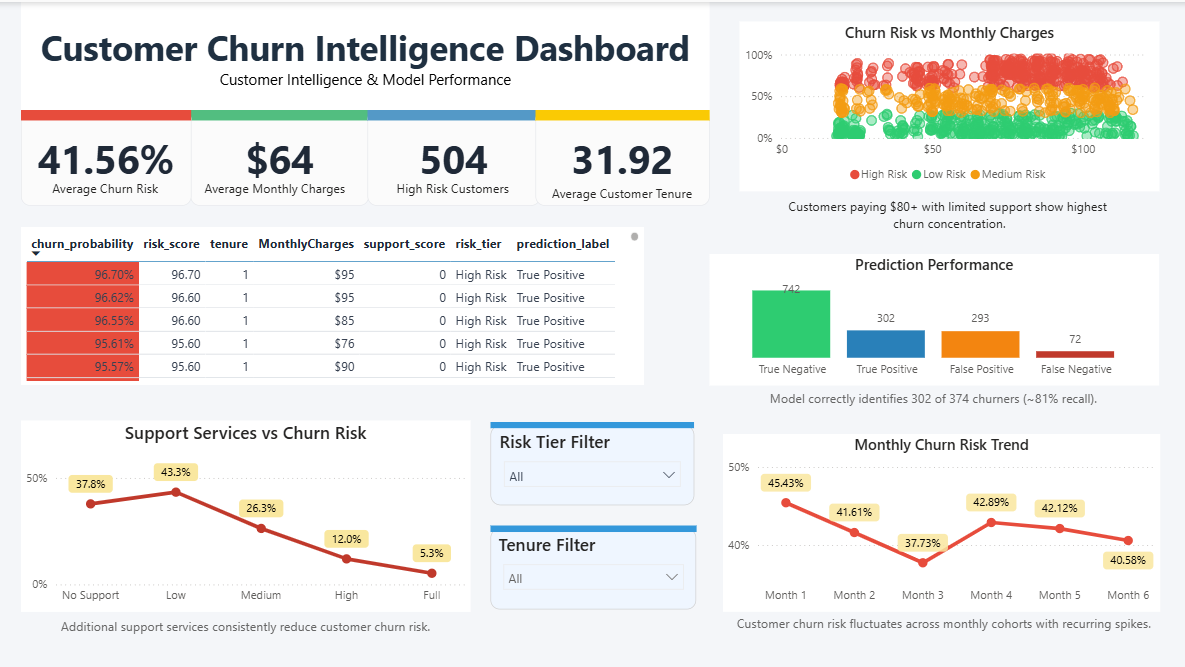

This screenshot's page, from the dashboard's own definition file:
{"tool":"powerbi","page":{"name":"Customer Intelligence","canvas":[1280,720],"ordinal":1},"visuals":[{"type":"card","fields":{"Values":["Avg(predictions_enhanced.churn_probability)"]},"box":[23.3,116.7,183.7,103.3],"z":0,"group":"g4"},{"type":"card","fields":{"Values":["predictions.High Risk Customers"]},"box":[396.8,116.7,186.7,103.3],"z":0,"group":"g5"},{"type":"card","fields":{"Values":["Avg(predictions_enhanced.tenure)"]},"box":[577.3,116.7,188.3,103.3],"z":0,"group":"g6"},{"type":"tableEx","fields":{"Values":["predictions_enhanced.churn_probability","predictions_enhanced.risk_score","predictions_enhanced.tenure","predictions_enhanced.MonthlyCharges","predictions_enhanced.support_score","predictions_enhanced.risk_tier","predictions_enhanced.prediction_label"]},"box":[23.3,243.3,671.7,170],"z":0},{"type":"scatterChart","title":"Churn Risk vs Monthly Charges","fields":{"X":["predictions_enhanced.MonthlyCharges"],"Y":["Avg(predictions_enhanced.churn_probability)"],"Series":["predictions_enhanced.risk_tier"]},"box":[798.3,21.7,453.3,183.3],"z":1000},{"type":"card","fields":{"Values":["Avg(predictions_enhanced.MonthlyCharges)"]},"box":[207,116.7,192.9,103.3],"z":1000,"group":"g1"},{"type":"textbox","box":[44,186.1,139.7,33.9],"z":1000,"group":"g4"},{"type":"textbox","box":[417.8,186.1,142,33.9],"z":1000,"group":"g5"},{"type":"textbox","box":[576.3,190.7,190.3,28.7],"z":1000,"group":"g6"},{"type":"shape","box":[23.3,116.7,183.7,11.3],"z":2000,"group":"g4"},{"type":"shape","box":[396.8,116.7,186.7,11.3],"z":2000,"group":"g5"},{"type":"shape","box":[577.3,116.7,188.3,11.3],"z":2000,"group":"g6"},{"type":"lineChart","title":"Support Services vs Churn Risk","fields":{"Y":["Avg(predictions.churn_probability)"],"Category":["predictions.support_label"]},"box":[23.3,451.7,485,206.7],"z":2000},{"type":"textbox","box":[207,186.1,182.1,33.9],"z":3000,"group":"g1"},{"type":"clusteredColumnChart","title":"Prediction Performance","fields":{"Category":["predictions_enhanced.prediction_label"],"Y":["CountNonNull(predictions_enhanced.prediction_label)"]},"box":[766.7,271.7,485,141.7],"z":3000},{"type":"lineChart","title":"Monthly Churn Risk Trend","fields":{"Category":["predictions_enhanced.month_cohort"],"Y":["Avg(predictions_enhanced.churn_probability)"]},"box":[780,466.7,471.7,191.7],"z":4000},{"type":"textbox","box":[23.3,0,743.3,128.3],"z":5000},{"type":"shape","box":[207,116.7,192.9,11.3],"z":5000,"group":"g1"},{"type":"group","id":"g1","title":"Group 5","box":[23.3,116.7,743.3,103.3],"z":6000},{"type":"group","id":"g2","title":"Group 2","box":[530,453.3,220,90],"z":7000},{"type":"slicer","title":"Risk Tier Filter","fields":{"Values":["predictions_enhanced.risk_tier"]},"box":[530,456.6,220,86.7],"z":7000,"group":"g2"},{"type":"group","id":"g3","title":"Group 4","box":[530,565,223.3,91.7],"z":8000},{"type":"slicer","title":"Tenure Filter","fields":{"Values":["predictions_enhanced.tenure_group_label"]},"box":[530,568.7,222,87],"z":8000,"group":"g3"},{"type":"group","id":"g4","title":"Group 1","box":[23.3,116.7,183.7,103.3],"z":9000,"group":"g1"},{"type":"textbox","box":[765,413.3,486.7,38.3],"z":9000},{"type":"group","id":"g5","title":"Group 3","box":[396.8,116.7,186.7,103.3],"z":10000,"group":"g1"},{"type":"textbox","box":[23.3,658.3,485,31.7],"z":10000},{"type":"group","id":"g6","title":"Group 3","box":[576.3,116.7,190.3,103.3],"z":11000,"group":"g1"},{"type":"textbox","box":[798.3,205,453.3,53.3],"z":11000},{"type":"textbox","box":[775,655,486.7,35],"z":12000},{"type":"shape","box":[530,453.3,219.7,6.6],"z":14001,"group":"g2"},{"type":"shape","box":[530,565,222.5,7],"z":14002,"group":"g3"}]}

Visuals, with their boxes in screenshot pixels (x1, y1, x2, y2), scaled from the page's 1280x720 canvas onto the 1185x667 screenshot:
card - Avg(predictions_enhanced.churn_probability): [22, 108, 192, 204]
card - predictions.High Risk Customers: [367, 108, 540, 204]
card - Avg(predictions_enhanced.tenure): [534, 108, 709, 204]
tableEx - predictions_enhanced.churn_probability x predictions_enhanced.risk_score: [22, 225, 643, 383]
"Churn Risk vs Monthly Charges" scatterChart: [739, 20, 1159, 190]
card - Avg(predictions_enhanced.MonthlyCharges): [192, 108, 370, 204]
textbox: [41, 172, 170, 204]
textbox: [387, 172, 518, 204]
textbox: [534, 177, 710, 203]
shape: [22, 108, 192, 119]
shape: [367, 108, 540, 119]
shape: [534, 108, 709, 119]
"Support Services vs Churn Risk" lineChart: [22, 418, 471, 610]
textbox: [192, 172, 360, 204]
"Prediction Performance" clusteredColumnChart: [710, 252, 1159, 383]
"Monthly Churn Risk Trend" lineChart: [722, 432, 1159, 610]
textbox: [22, 0, 710, 119]
shape: [192, 108, 370, 119]
"Group 5" group: [22, 108, 710, 204]
"Group 2" group: [491, 420, 694, 503]
"Risk Tier Filter" slicer: [491, 423, 694, 503]
"Group 4" group: [491, 523, 697, 608]
"Tenure Filter" slicer: [491, 527, 696, 607]
"Group 1" group: [22, 108, 192, 204]
textbox: [708, 383, 1159, 418]
"Group 3" group: [367, 108, 540, 204]
textbox: [22, 610, 471, 639]
"Group 3" group: [534, 108, 710, 204]
textbox: [739, 190, 1159, 239]
textbox: [717, 607, 1168, 639]
shape: [491, 420, 694, 426]
shape: [491, 523, 697, 530]
